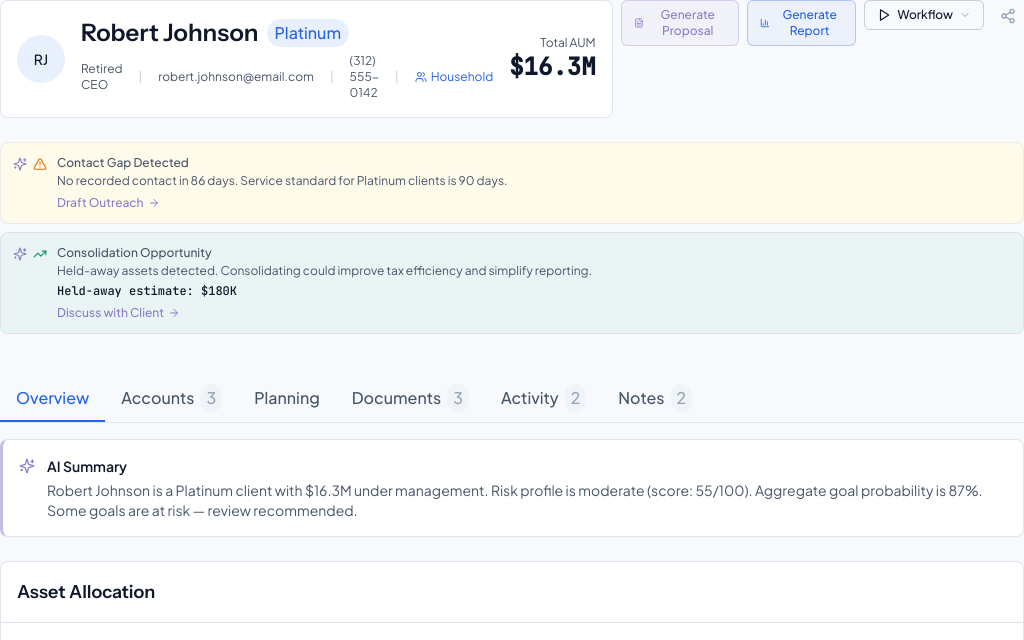
Test: ClientDetailPage › renders document list when Documents tab is clicked
Expected: the heading "Robert Johnson" is shown, x1=81 y1=17 x2=258 y2=49
Click the tab "Documents 3".
click(410, 398)  # box x1=336 y1=374 x2=485 y2=422
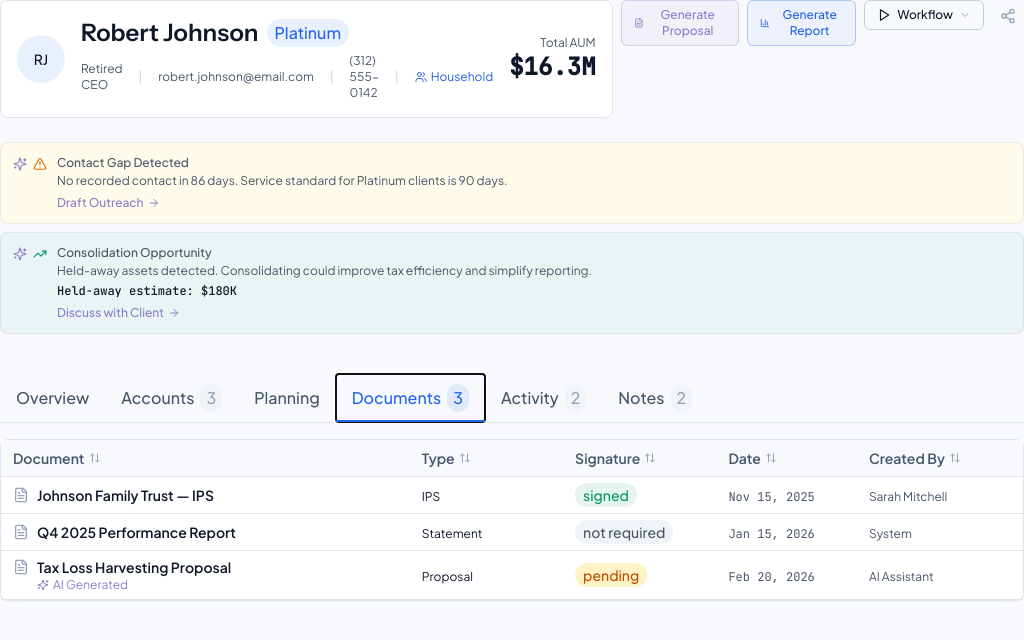
Expected: the text "Johnson Family Trust — IPS" is shown, x1=37 y1=485 x2=214 y2=505
